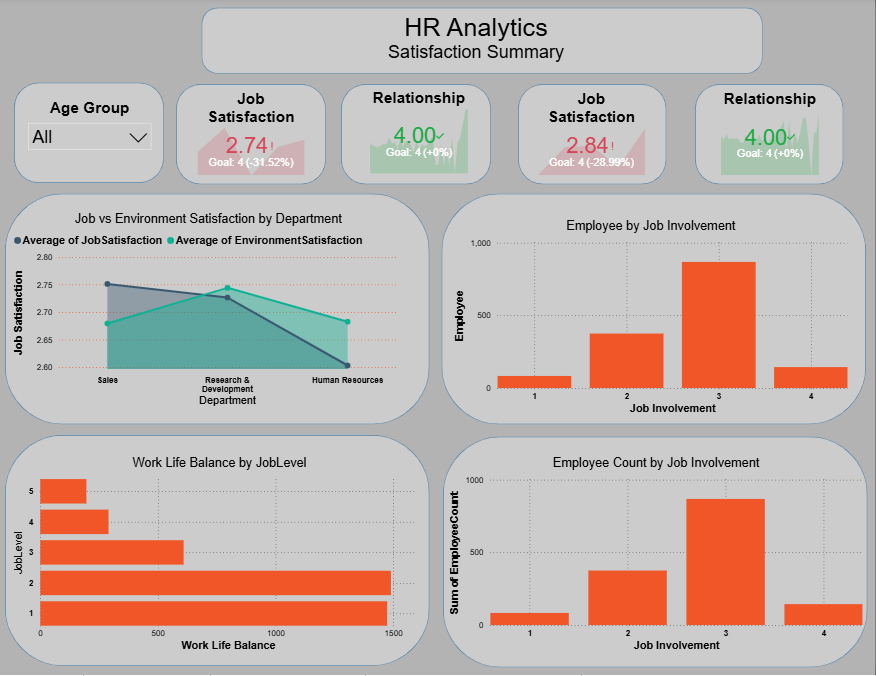

This screenshot's page, from the dashboard's own definition file:
{"tool":"powerbi","page":{"name":"Satisfaction","canvas":[1289,1000],"ordinal":2},"visuals":[{"type":"shape","box":[298.1,16.6,826.4,97.7],"z":0},{"type":"textbox","box":[389.2,18.2,627.7,91.1],"z":1000},{"type":"shape","box":[1025.1,128.1,218.7,148],"z":2000},{"type":"shape","box":[260.7,128.1,220.9,148],"z":3000},{"type":"shape","box":[764.4,128.1,218.7,148],"z":4000},{"type":"shape","box":[503.7,128.1,220.9,148],"z":5000},{"type":"kpi","title":"Job Satisfaction","fields":{"Indicator":["Avg(HR_Analytics.JobSatisfaction)"],"Goal":["Measuers.Satisfaction Target"],"TrendLine":["HR_Analytics.JobLevel"]},"box":[287.2,137,167.9,130.3],"z":6000},{"type":"kpi","title":"Relationship","fields":{"Indicator":["Avg(HR_Analytics.RelationshipSatisfaction)"],"TrendLine":["HR_Analytics.YearsAtCompany"],"Goal":["Measuers.Satisfaction Target"]},"box":[1058.2,137,154.6,130.3],"z":7000},{"type":"kpi","title":"Relationship","fields":{"Goal":["Measuers.Satisfaction Target"],"Indicator":["Avg(HR_Analytics.EnvironmentSatisfaction)"],"TrendLine":["HR_Analytics.YearsAtCompany"]},"box":[541.2,134.8,154.6,130.3],"z":8000},{"type":"kpi","title":"Job Satisfaction","fields":{"Goal":["Measuers.Satisfaction Target"],"TrendLine":["HR_Analytics.JobLevel"],"Indicator":["Avg(HR_Analytics.WorkLifeBalance)"]},"box":[788.7,137,167.9,130.3],"z":9000},{"type":"shape","box":[8.8,289.4,625.2,340.2],"z":10000},{"type":"areaChart","title":"Job vs Environment Satisfaction by Department","fields":{"Category":["HR_Analytics.Department"],"Y":["Avg(HR_Analytics.JobSatisfaction)","Avg(HR_Analytics.EnvironmentSatisfaction)"]},"box":[15.5,315.9,585.4,291.6],"z":11000},{"type":"shape","box":[8.8,645.1,625.2,340.2],"z":12000},{"type":"clusteredBarChart","title":"Work Life Balance by JobLevel","fields":{"Category":["HR_Analytics.JobLevel"],"Y":["Sum(HR_Analytics.WorkLifeBalance)"]},"box":[15.5,676,618.6,291.6],"z":13000},{"type":"shape","box":[651.7,289.4,625.2,340.2],"z":14000},{"type":"shape","box":[653.9,647.3,625.2,340.2],"z":15000},{"type":"clusteredColumnChart","title":"Employee Count by Job Involvement","fields":{"Category":["HR_Analytics.JobInvolvement"],"Y":["Sum(HR_Analytics.EmployeeCount)"]},"box":[658.3,676,618.6,291.6],"z":16000},{"type":"clusteredColumnChart","title":"Employee by Job Involvement","fields":{"Category":["HR_Analytics.JobInvolvement"],"Y":["CountNonNull(HR_Analytics.EmployeeCount)"]},"box":[665,327,589.9,291.6],"z":17000},{"type":"shape","box":[22.1,125.9,220.9,148],"z":18000},{"type":"slicer","title":"Age Group","fields":{"Values":["HR_Analytics.AgeGroup"]},"box":[33.1,150.2,201,106],"z":19000}]}

Visuals, with their boxes in screenshot pixels (x1, y1, x2, y2), scaled from the page's 1289x1000 canvas onto the 876x676 screenshot:
shape: {"left": 203, "top": 11, "right": 764, "bottom": 77}
textbox: {"left": 264, "top": 12, "right": 691, "bottom": 74}
shape: {"left": 697, "top": 87, "right": 845, "bottom": 187}
shape: {"left": 177, "top": 87, "right": 327, "bottom": 187}
shape: {"left": 519, "top": 87, "right": 668, "bottom": 187}
shape: {"left": 342, "top": 87, "right": 492, "bottom": 187}
"Job Satisfaction" kpi: {"left": 195, "top": 93, "right": 309, "bottom": 181}
"Relationship" kpi: {"left": 719, "top": 93, "right": 824, "bottom": 181}
"Relationship" kpi: {"left": 368, "top": 91, "right": 473, "bottom": 179}
"Job Satisfaction" kpi: {"left": 536, "top": 93, "right": 650, "bottom": 181}
shape: {"left": 6, "top": 196, "right": 431, "bottom": 426}
"Job vs Environment Satisfaction by Department" areaChart: {"left": 11, "top": 214, "right": 408, "bottom": 411}
shape: {"left": 6, "top": 436, "right": 431, "bottom": 666}
"Work Life Balance by JobLevel" clusteredBarChart: {"left": 11, "top": 457, "right": 431, "bottom": 654}
shape: {"left": 443, "top": 196, "right": 868, "bottom": 426}
shape: {"left": 444, "top": 438, "right": 869, "bottom": 668}
"Employee Count by Job Involvement" clusteredColumnChart: {"left": 447, "top": 457, "right": 868, "bottom": 654}
"Employee by Job Involvement" clusteredColumnChart: {"left": 452, "top": 221, "right": 853, "bottom": 418}
shape: {"left": 15, "top": 85, "right": 165, "bottom": 185}
"Age Group" slicer: {"left": 22, "top": 102, "right": 159, "bottom": 173}
